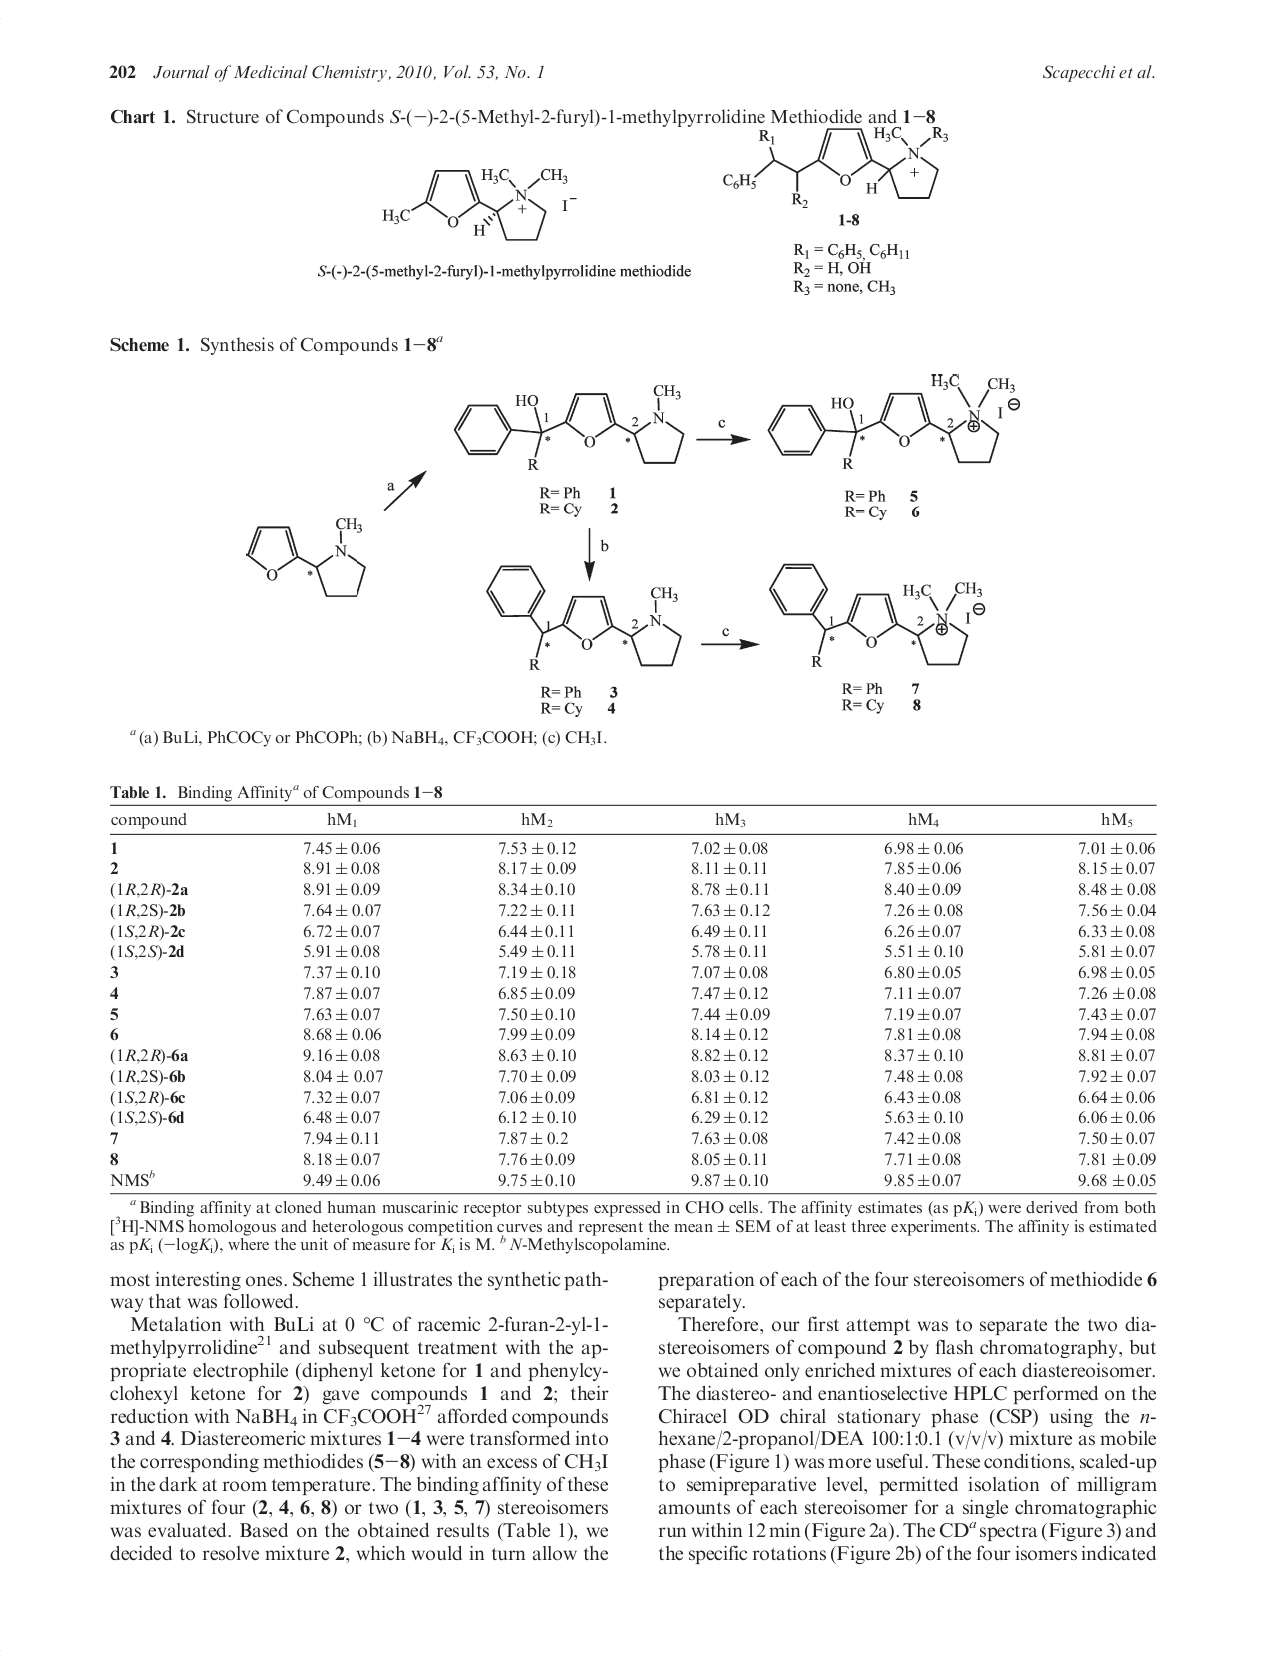exist_molecular: (767, 370, 1023, 473), (767, 561, 992, 672), (483, 563, 684, 674), (451, 380, 688, 473), (722, 122, 949, 211), (382, 164, 572, 243), (246, 515, 368, 598)
